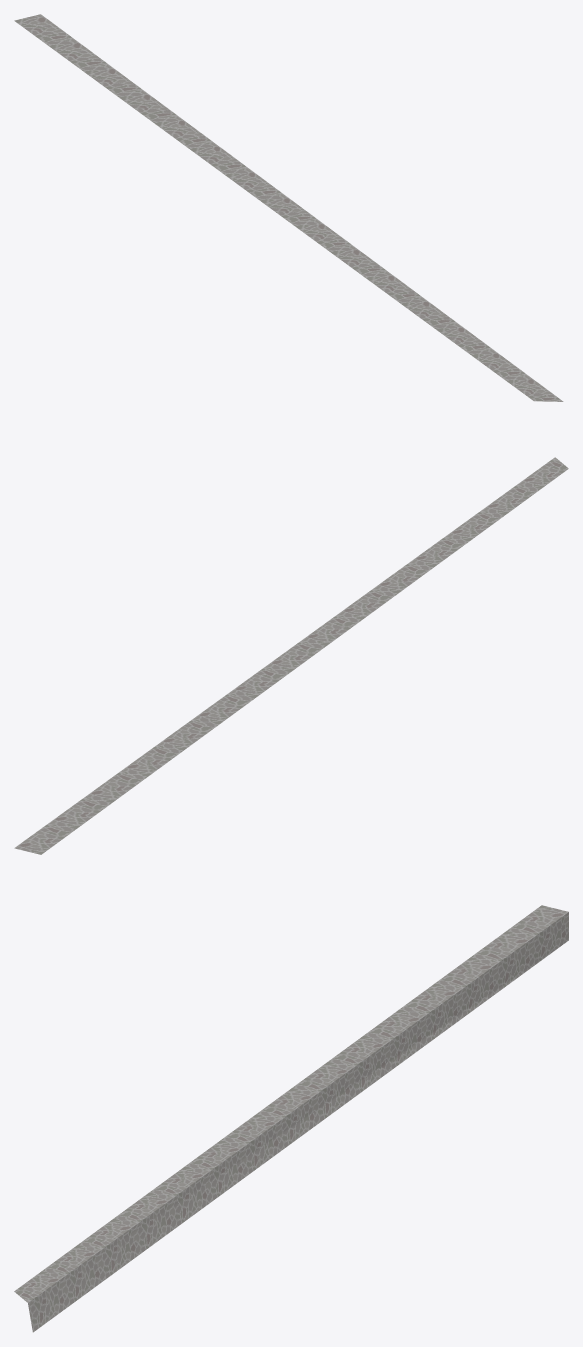
Rendered from kd_stage_135b75_2_8.glb.
The picture shows the model from 3 angles, top to bottom: view 1: azimuth 30°, elevation 25°; view 2: azimuth 150°, elevation 25°; view 3: azimuth 330°, elevation 25°; orthographic projection.
Visible parts, largest first — view 1: kd_stage_135b75_2_8; view 2: kd_stage_135b75_2_8; view 3: kd_stage_135b75_2_8.
Part boxes in pixels (x1,y1,x2,y2): kd_stage_135b75_2_8: [14, 14, 563, 401]; kd_stage_135b75_2_8: [14, 457, 568, 854]; kd_stage_135b75_2_8: [14, 905, 568, 1332].
Bounding box in the file's own units: 0.5 × 0.5 × 17.04.
1 material, 1 textured.
